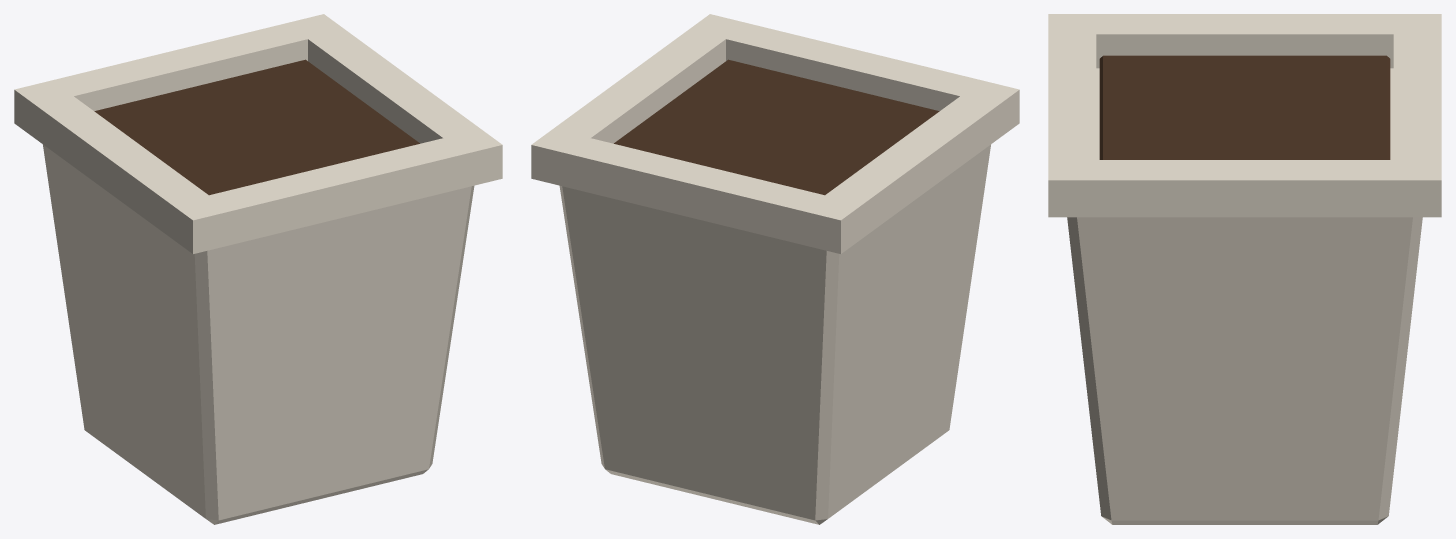
File: Lodge_Planter.fbx
3 renders of one model, left to right at view 1: azimuth 30°, elevation 25°; view 2: azimuth 150°, elevation 25°; view 3: azimuth 270°, elevation 25°, orthographic. The views are drawn at different scales.
Visible parts, largest first — view 1: FnPlanter, FnSoil; view 2: FnPlanter, FnSoil; view 3: FnPlanter, FnSoil.
Part boxes in pixels (bbox=[...]): FnPlanter: bbox=[14, 14, 502, 524]; FnSoil: bbox=[94, 59, 419, 195]; FnPlanter: bbox=[531, 14, 1019, 524]; FnSoil: bbox=[614, 59, 939, 195]; FnPlanter: bbox=[1048, 14, 1441, 524]; FnSoil: bbox=[1099, 55, 1390, 159].
Bounding box in the file's own units: 2.3 × 2.4 × 2.3.
